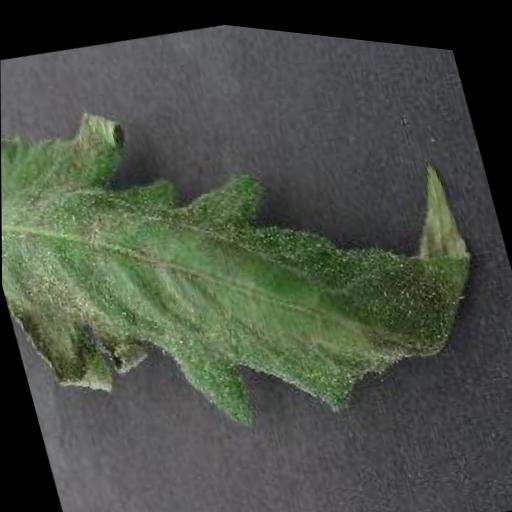Late Blight: (0, 14, 504, 501)
